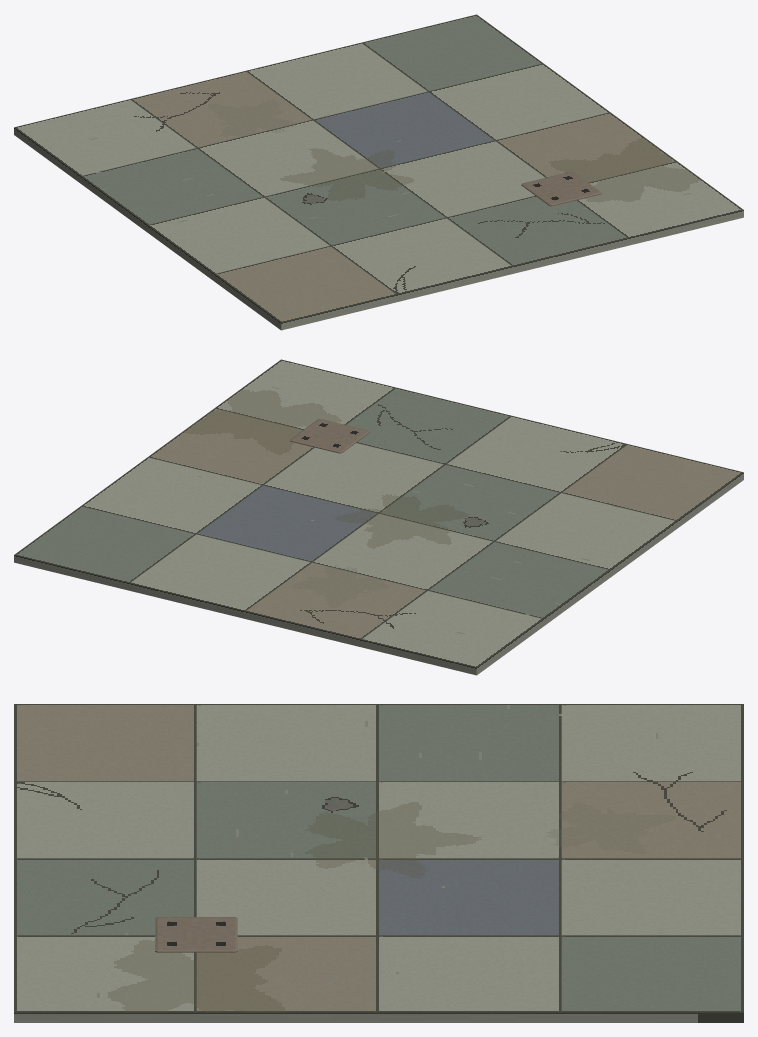
The model's file is floor_3c.glb.
3 renders of one model, top to bottom at view 1: azimuth 30°, elevation 25°; view 2: azimuth 150°, elevation 25°; view 3: azimuth 270°, elevation 25°, orthographic. The views are drawn at different scales.
Parts seen in each view (by area): view 1: floor_tiles, floor_edge, floor_plate; view 2: floor_tiles, floor_edge, floor_plate; view 3: floor_tiles, floor_edge, floor_plate.
Boxes of the visible parts, x1,y1,x2,y2 form: floor_tiles: [14, 14, 743, 322]; floor_edge: [14, 127, 743, 330]; floor_plate: [521, 171, 601, 206]; floor_tiles: [14, 359, 743, 667]; floor_edge: [14, 472, 743, 675]; floor_plate: [290, 419, 370, 453]; floor_tiles: [14, 704, 743, 1012]; floor_edge: [14, 1012, 743, 1022]; floor_plate: [155, 917, 237, 952].
Bounding box in the file's own units: 2 × 0.0362 × 2.
Materials: 1 (1 with a texture image).
